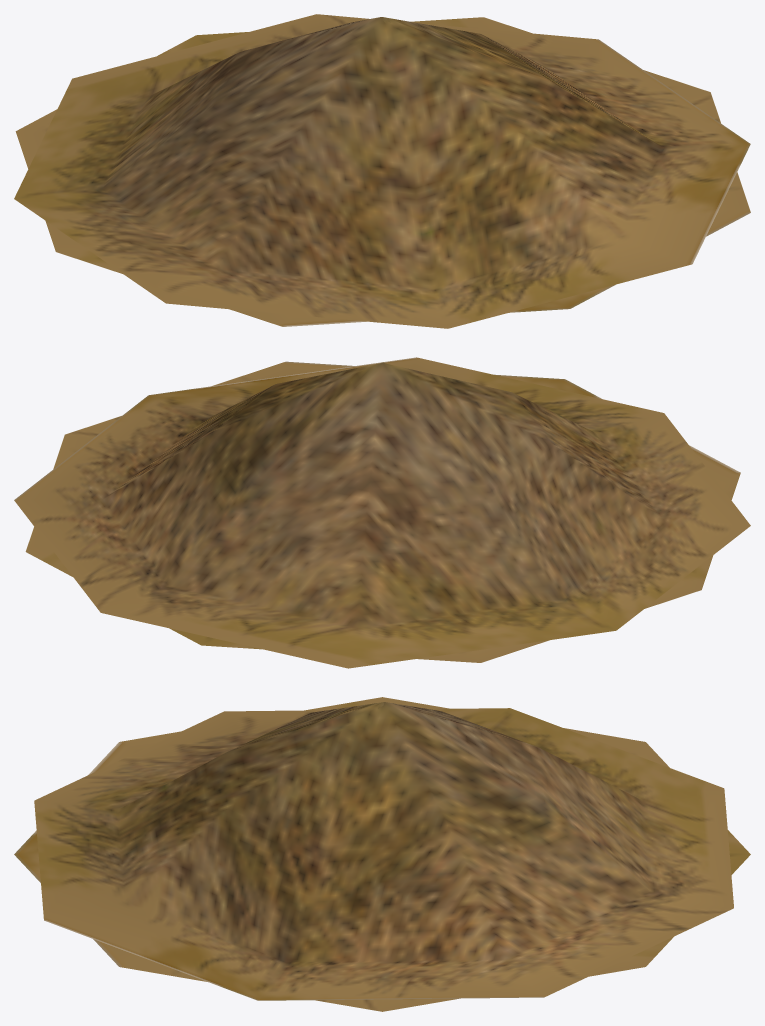
The model's file is mlzd_daocao_01.FBX.
3 renders of one model, top to bottom at view 1: azimuth 30°, elevation 25°; view 2: azimuth 150°, elevation 25°; view 3: azimuth 270°, elevation 25°, orthographic. The views are drawn at different scales.
Visible parts, largest first — view 1: mlzd_daocao_01; view 2: mlzd_daocao_01; view 3: mlzd_daocao_01.
Boxes of the visible parts, x1,y1,x2,y2 form: mlzd_daocao_01: (14, 14, 750, 328); mlzd_daocao_01: (14, 357, 750, 668); mlzd_daocao_01: (14, 697, 750, 1011).
Size of the model in its own units: 436 by 98.36 by 431.
